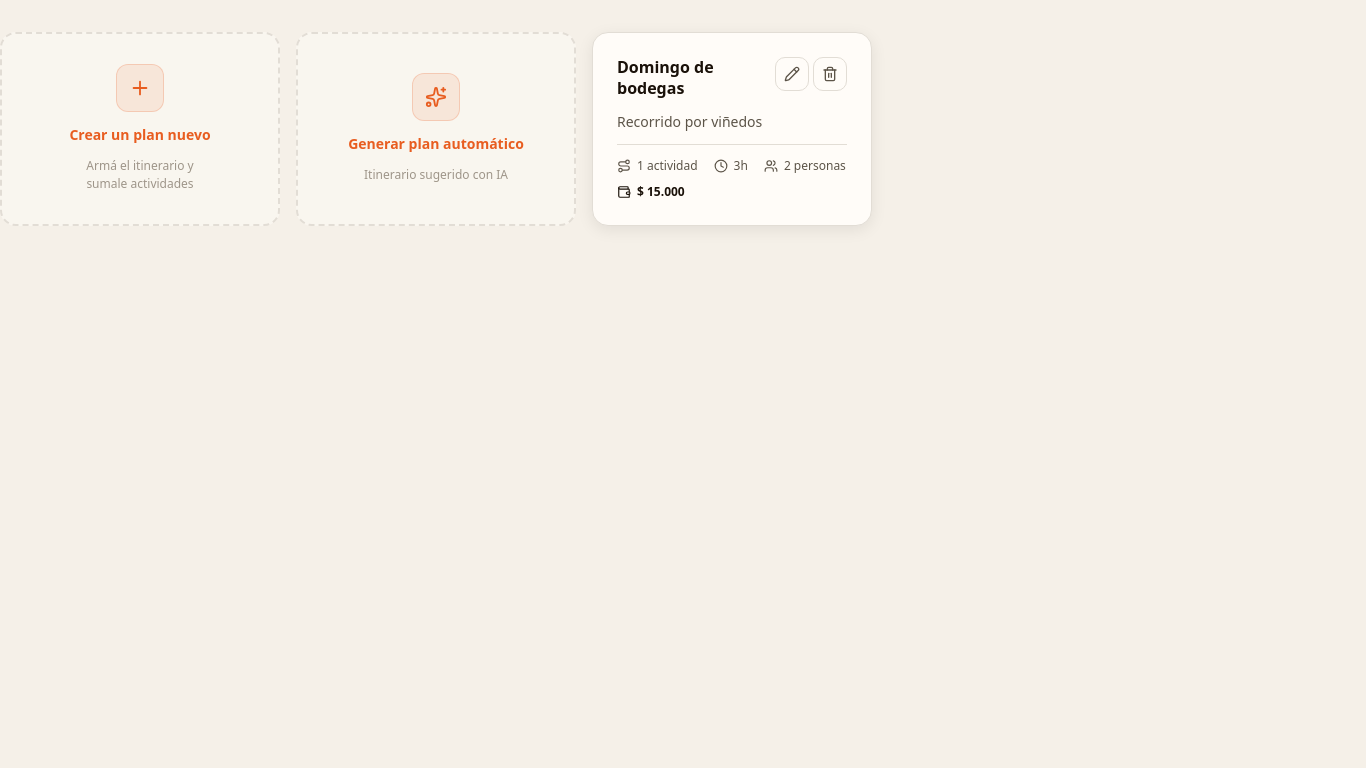
MyPlansPanel (CU29) › shows under construction modal when automatic plan button card is clicked (CU31)
The image size is (1366, 768).
Click the button "Generar plan automático Itinerario sugerido con IA" at (436, 97), box x1=296 y1=32 x2=576 y2=226
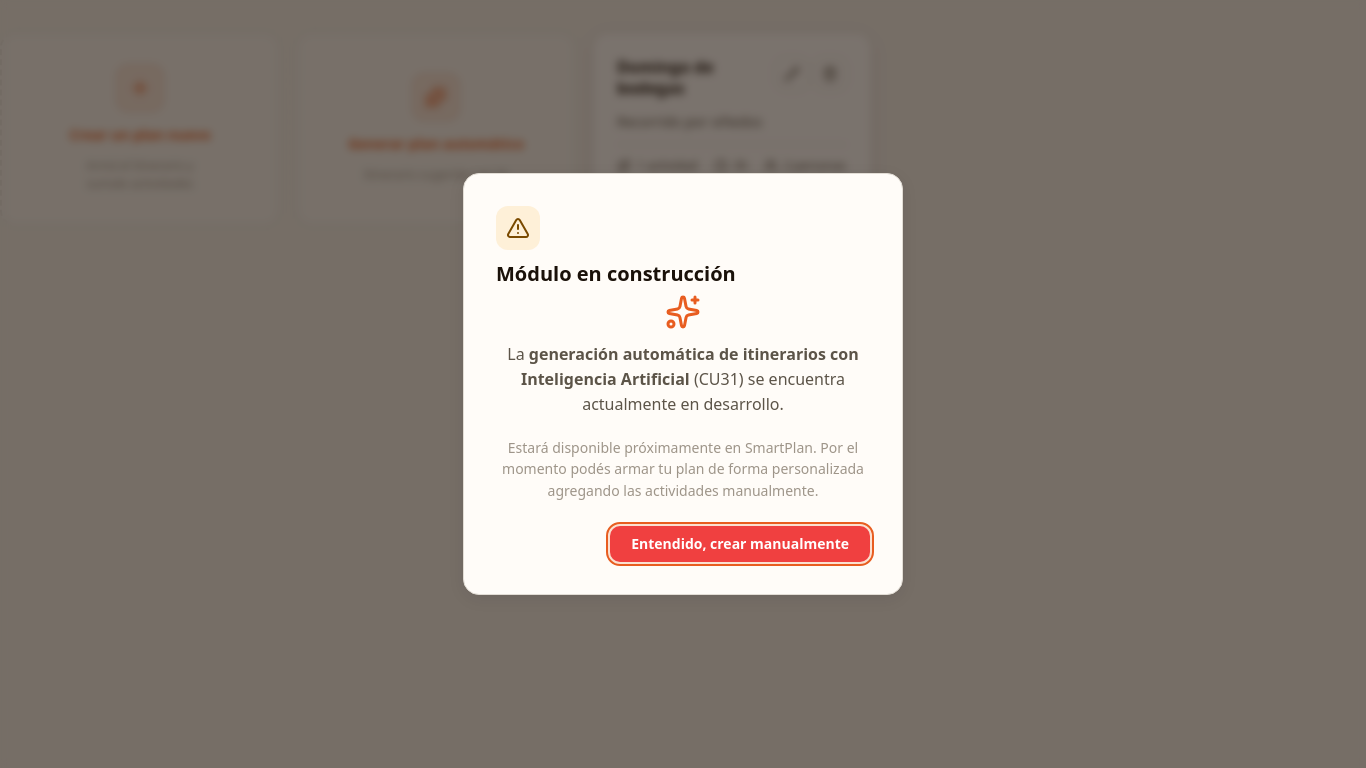
Now the dialog "Módulo en construcción" is shown, box x1=463 y1=173 x2=903 y2=595
Now the text "generación automática de itinerarios" is shown, box x1=521 y1=343 x2=859 y2=390
Click the button "Entendido, crear manualmente" at (740, 544), box x1=610 y1=526 x2=870 y2=562
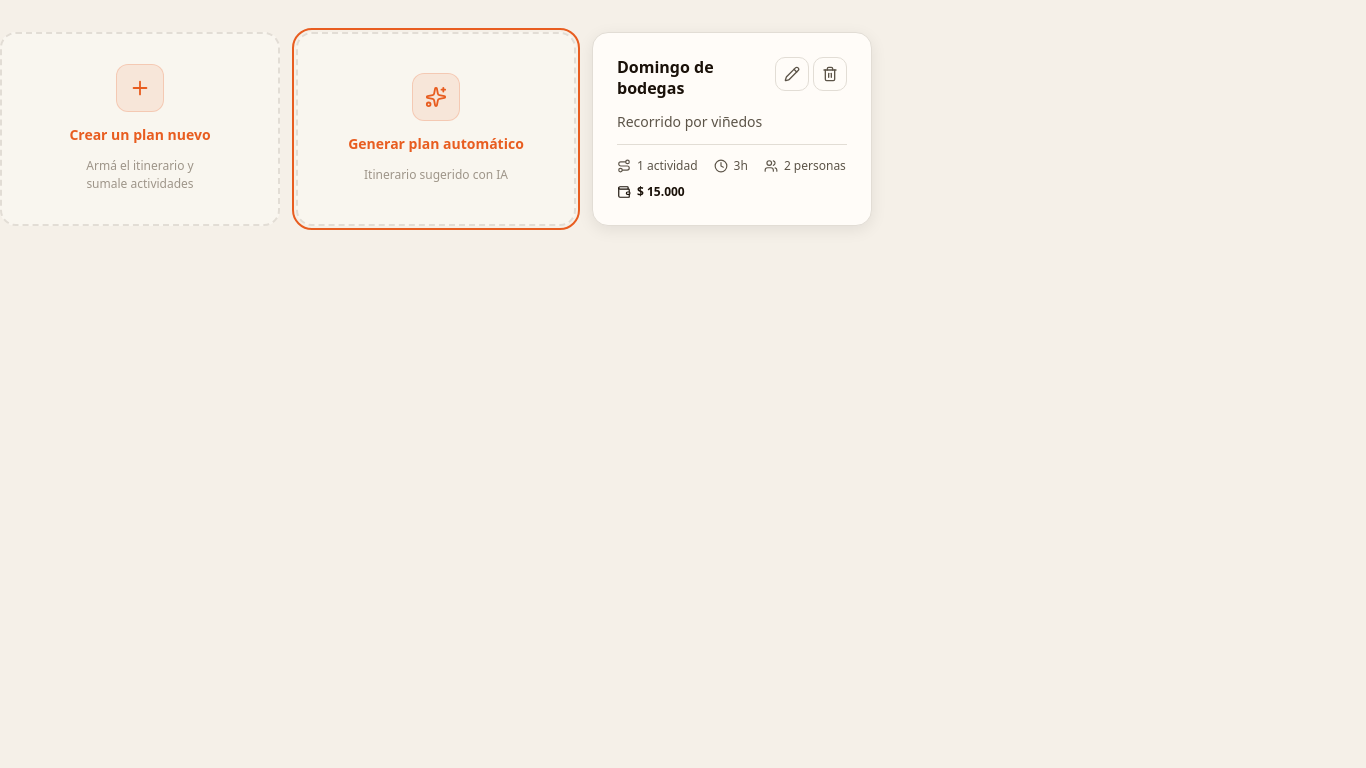
Now the dialog is gone
